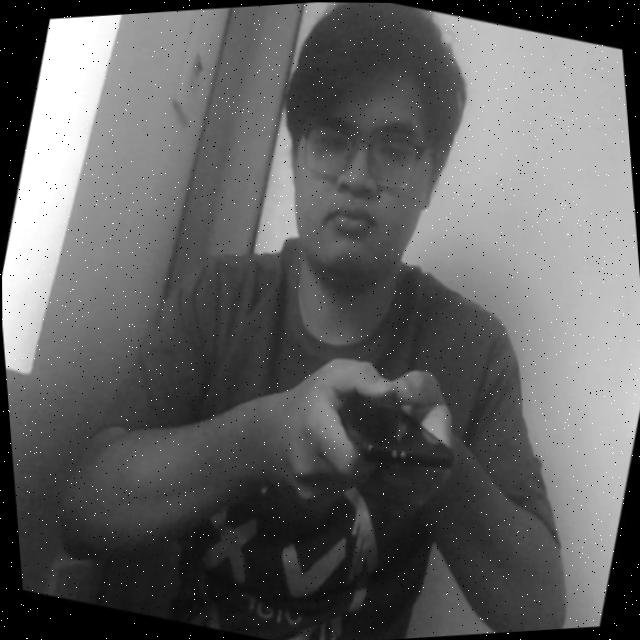phone: (303, 342, 495, 512)
